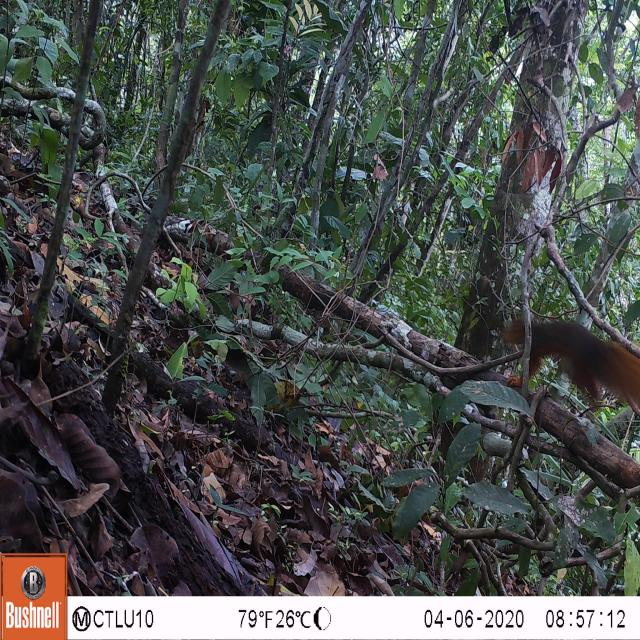Squirrel: (488, 306, 640, 411)
